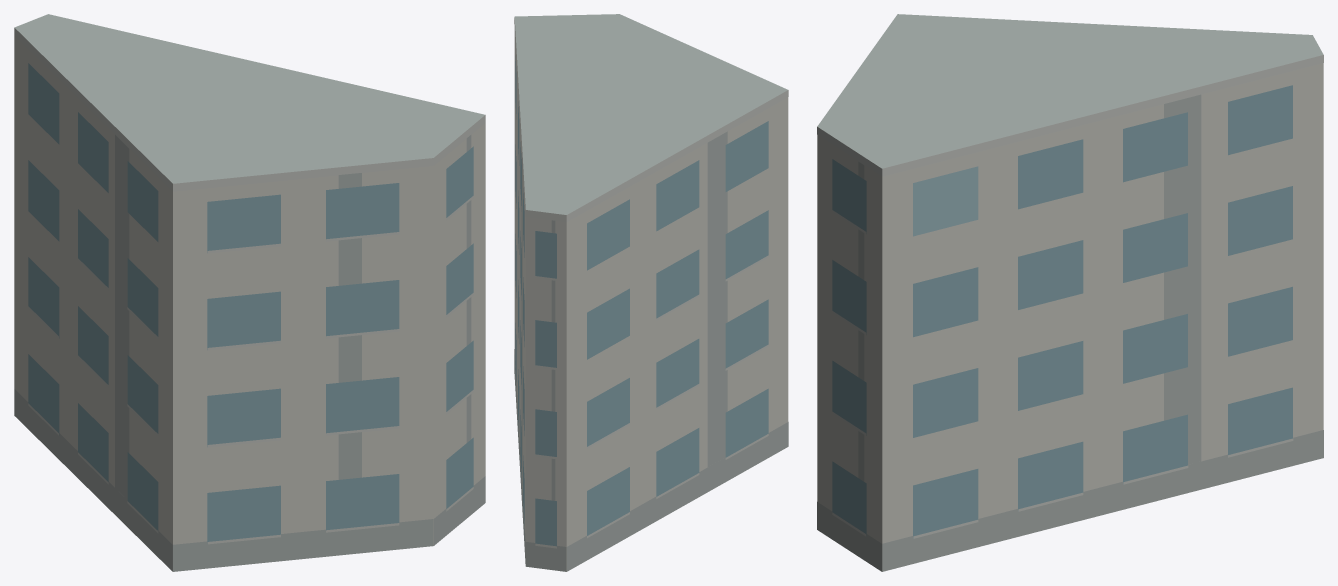
Rendered from residential-6c0ce4bb-8959-4014-bf06-6203227fe2ab.glb.
The picture shows the model from 3 angles, left to right: view 1: azimuth 30°, elevation 25°; view 2: azimuth 150°, elevation 25°; view 3: azimuth 270°, elevation 25°; orthographic projection. The views are drawn at different scales.
Parts seen in each view (by area): view 1: residential-6c0ce4bb-8959-4014-bf06-6203227fe2ab.tmp; view 2: residential-6c0ce4bb-8959-4014-bf06-6203227fe2ab.tmp; view 3: residential-6c0ce4bb-8959-4014-bf06-6203227fe2ab.tmp.
Boxes of the visible parts, x1=… form: residential-6c0ce4bb-8959-4014-bf06-6203227fe2ab.tmp: x1=14, y1=14, x2=485, y2=571; residential-6c0ce4bb-8959-4014-bf06-6203227fe2ab.tmp: x1=514, y1=14, x2=788, y2=571; residential-6c0ce4bb-8959-4014-bf06-6203227fe2ab.tmp: x1=817, y1=14, x2=1323, y2=571.
Size of the model in its own units: 10.05 by 12.2 by 13.9.
